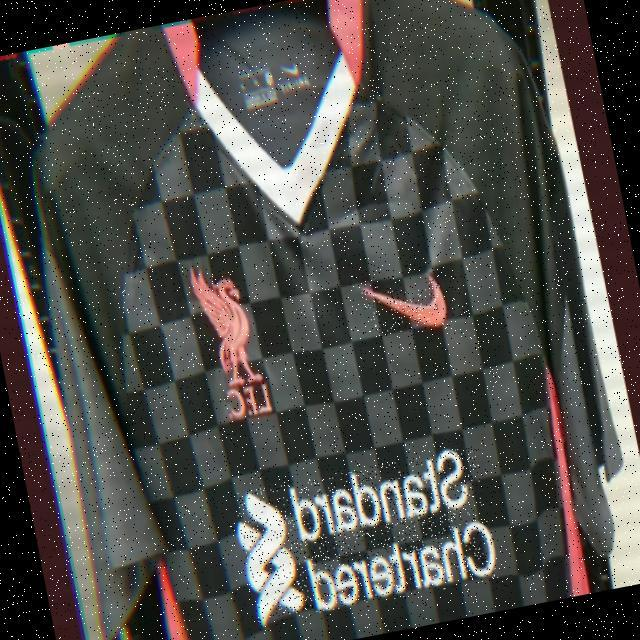Nike: (361, 275, 447, 340)
Standard Chartered: (233, 446, 501, 626)
